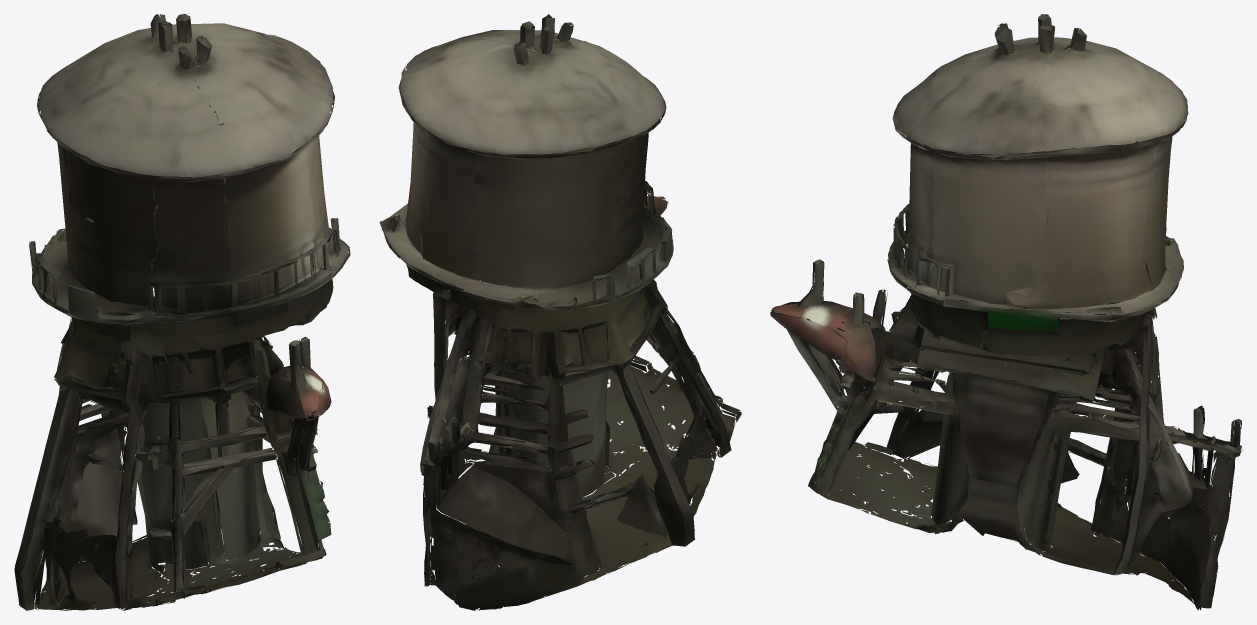
File: felucia-water-tower.hq.glb
3 renders of one model, left to right at view 1: azimuth 30°, elevation 25°; view 2: azimuth 150°, elevation 25°; view 3: azimuth 270°, elevation 25°, orthographic. The views are drawn at different scales.
Visible parts, largest first — view 1: low; view 2: low; view 3: low.
Boxes of the visible parts, x1,y1,x2,y2 form: low: (14,14,350,610); low: (379,14,741,610); low: (770,14,1242,610).
Bounding box in the file's own units: 0.5041 × 0.9327 × 0.6799.
Materials: 1 (1 with a texture image).
